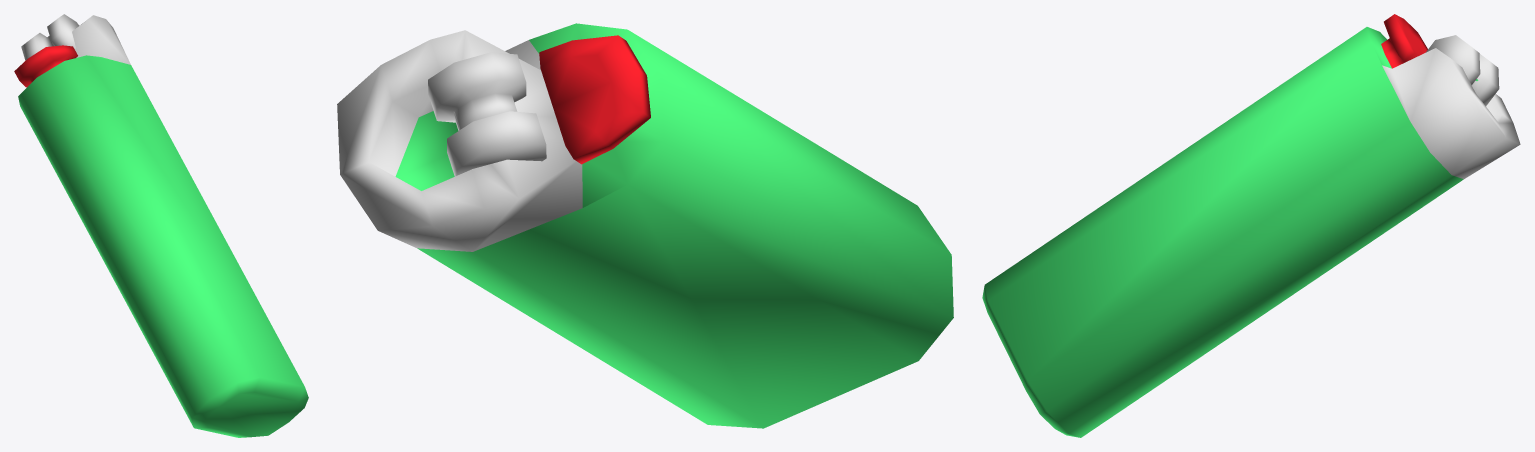
The model's file is Lighter.fbx.
The picture shows the model from 3 angles, left to right: view 1: azimuth 30°, elevation 25°; view 2: azimuth 150°, elevation 25°; view 3: azimuth 270°, elevation 25°; orthographic projection. The views are drawn at different scales.
Parts seen in each view (by area): view 1: Lighter; view 2: Lighter; view 3: Lighter.
Boxes of the visible parts, bbox=[...] form: Lighter: bbox=[14, 14, 308, 437]; Lighter: bbox=[337, 23, 953, 428]; Lighter: bbox=[982, 14, 1520, 437].
Size of the model in its own units: 15.48 by 32.24 by 41.96.
